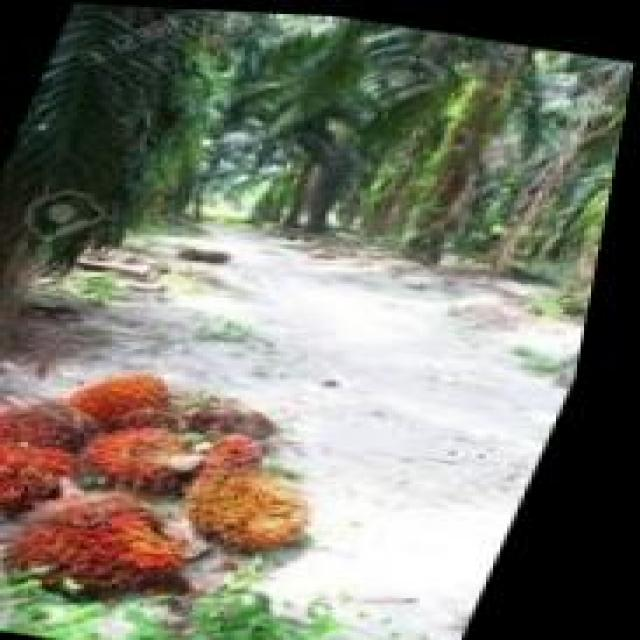Ripefruit: (16, 482, 229, 610), (185, 456, 368, 566), (74, 356, 206, 431), (0, 422, 94, 524), (88, 420, 228, 488), (0, 385, 108, 448)
